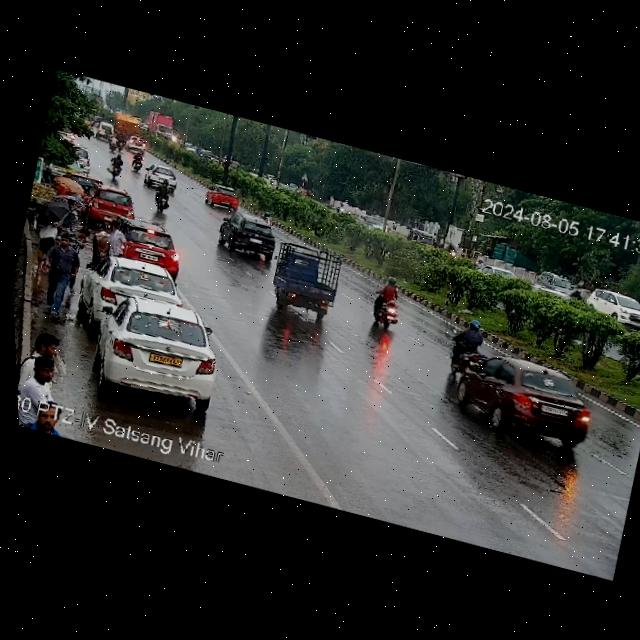car: (80, 289, 230, 413), (443, 345, 606, 457), (78, 248, 184, 330), (265, 238, 351, 324), (106, 216, 190, 275), (216, 212, 279, 258), (81, 181, 139, 227), (588, 288, 640, 332), (107, 112, 145, 148), (139, 162, 180, 192), (202, 182, 242, 211), (59, 145, 94, 174), (537, 270, 573, 295), (480, 262, 522, 283), (407, 226, 438, 249), (93, 119, 116, 142), (124, 134, 149, 154)
motorcycle: (434, 312, 492, 374), (359, 269, 414, 332), (148, 179, 176, 216), (255, 205, 283, 227), (105, 151, 125, 180), (129, 149, 146, 176), (567, 285, 587, 306), (443, 243, 462, 262)
person: (30, 232, 85, 323), (15, 327, 69, 405), (32, 220, 59, 271), (93, 218, 126, 255), (70, 223, 91, 249), (67, 194, 81, 214)
